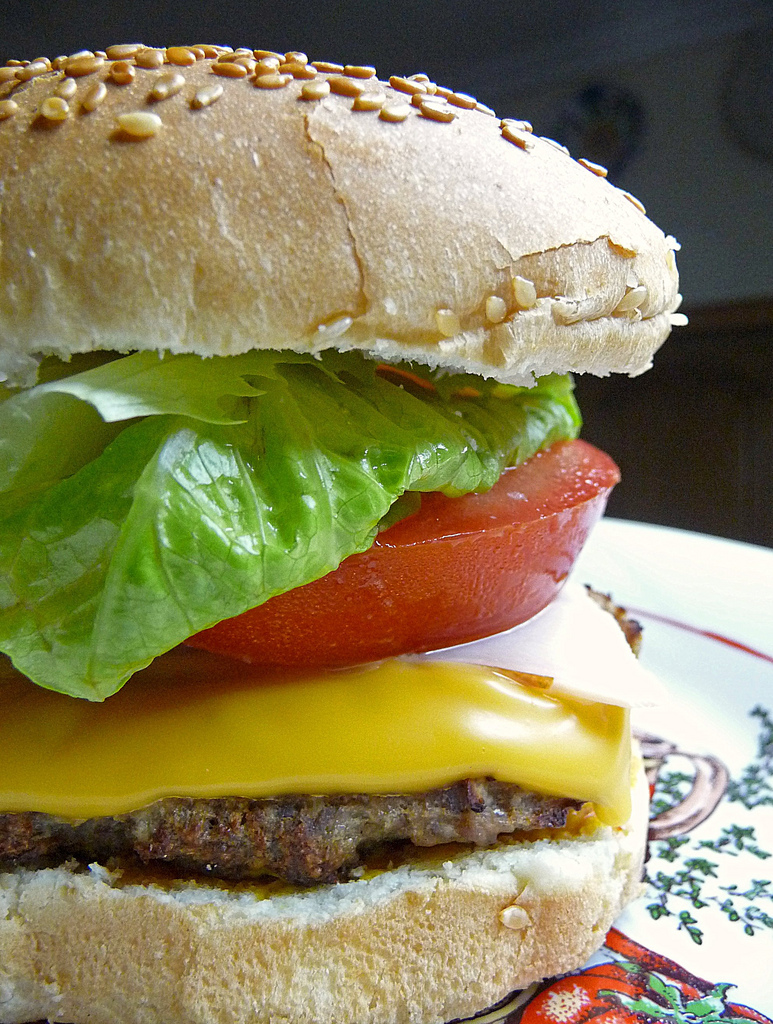chopped lettuce: (9, 371, 580, 651)
slice of bread: (16, 51, 678, 366), (14, 854, 709, 1016)
